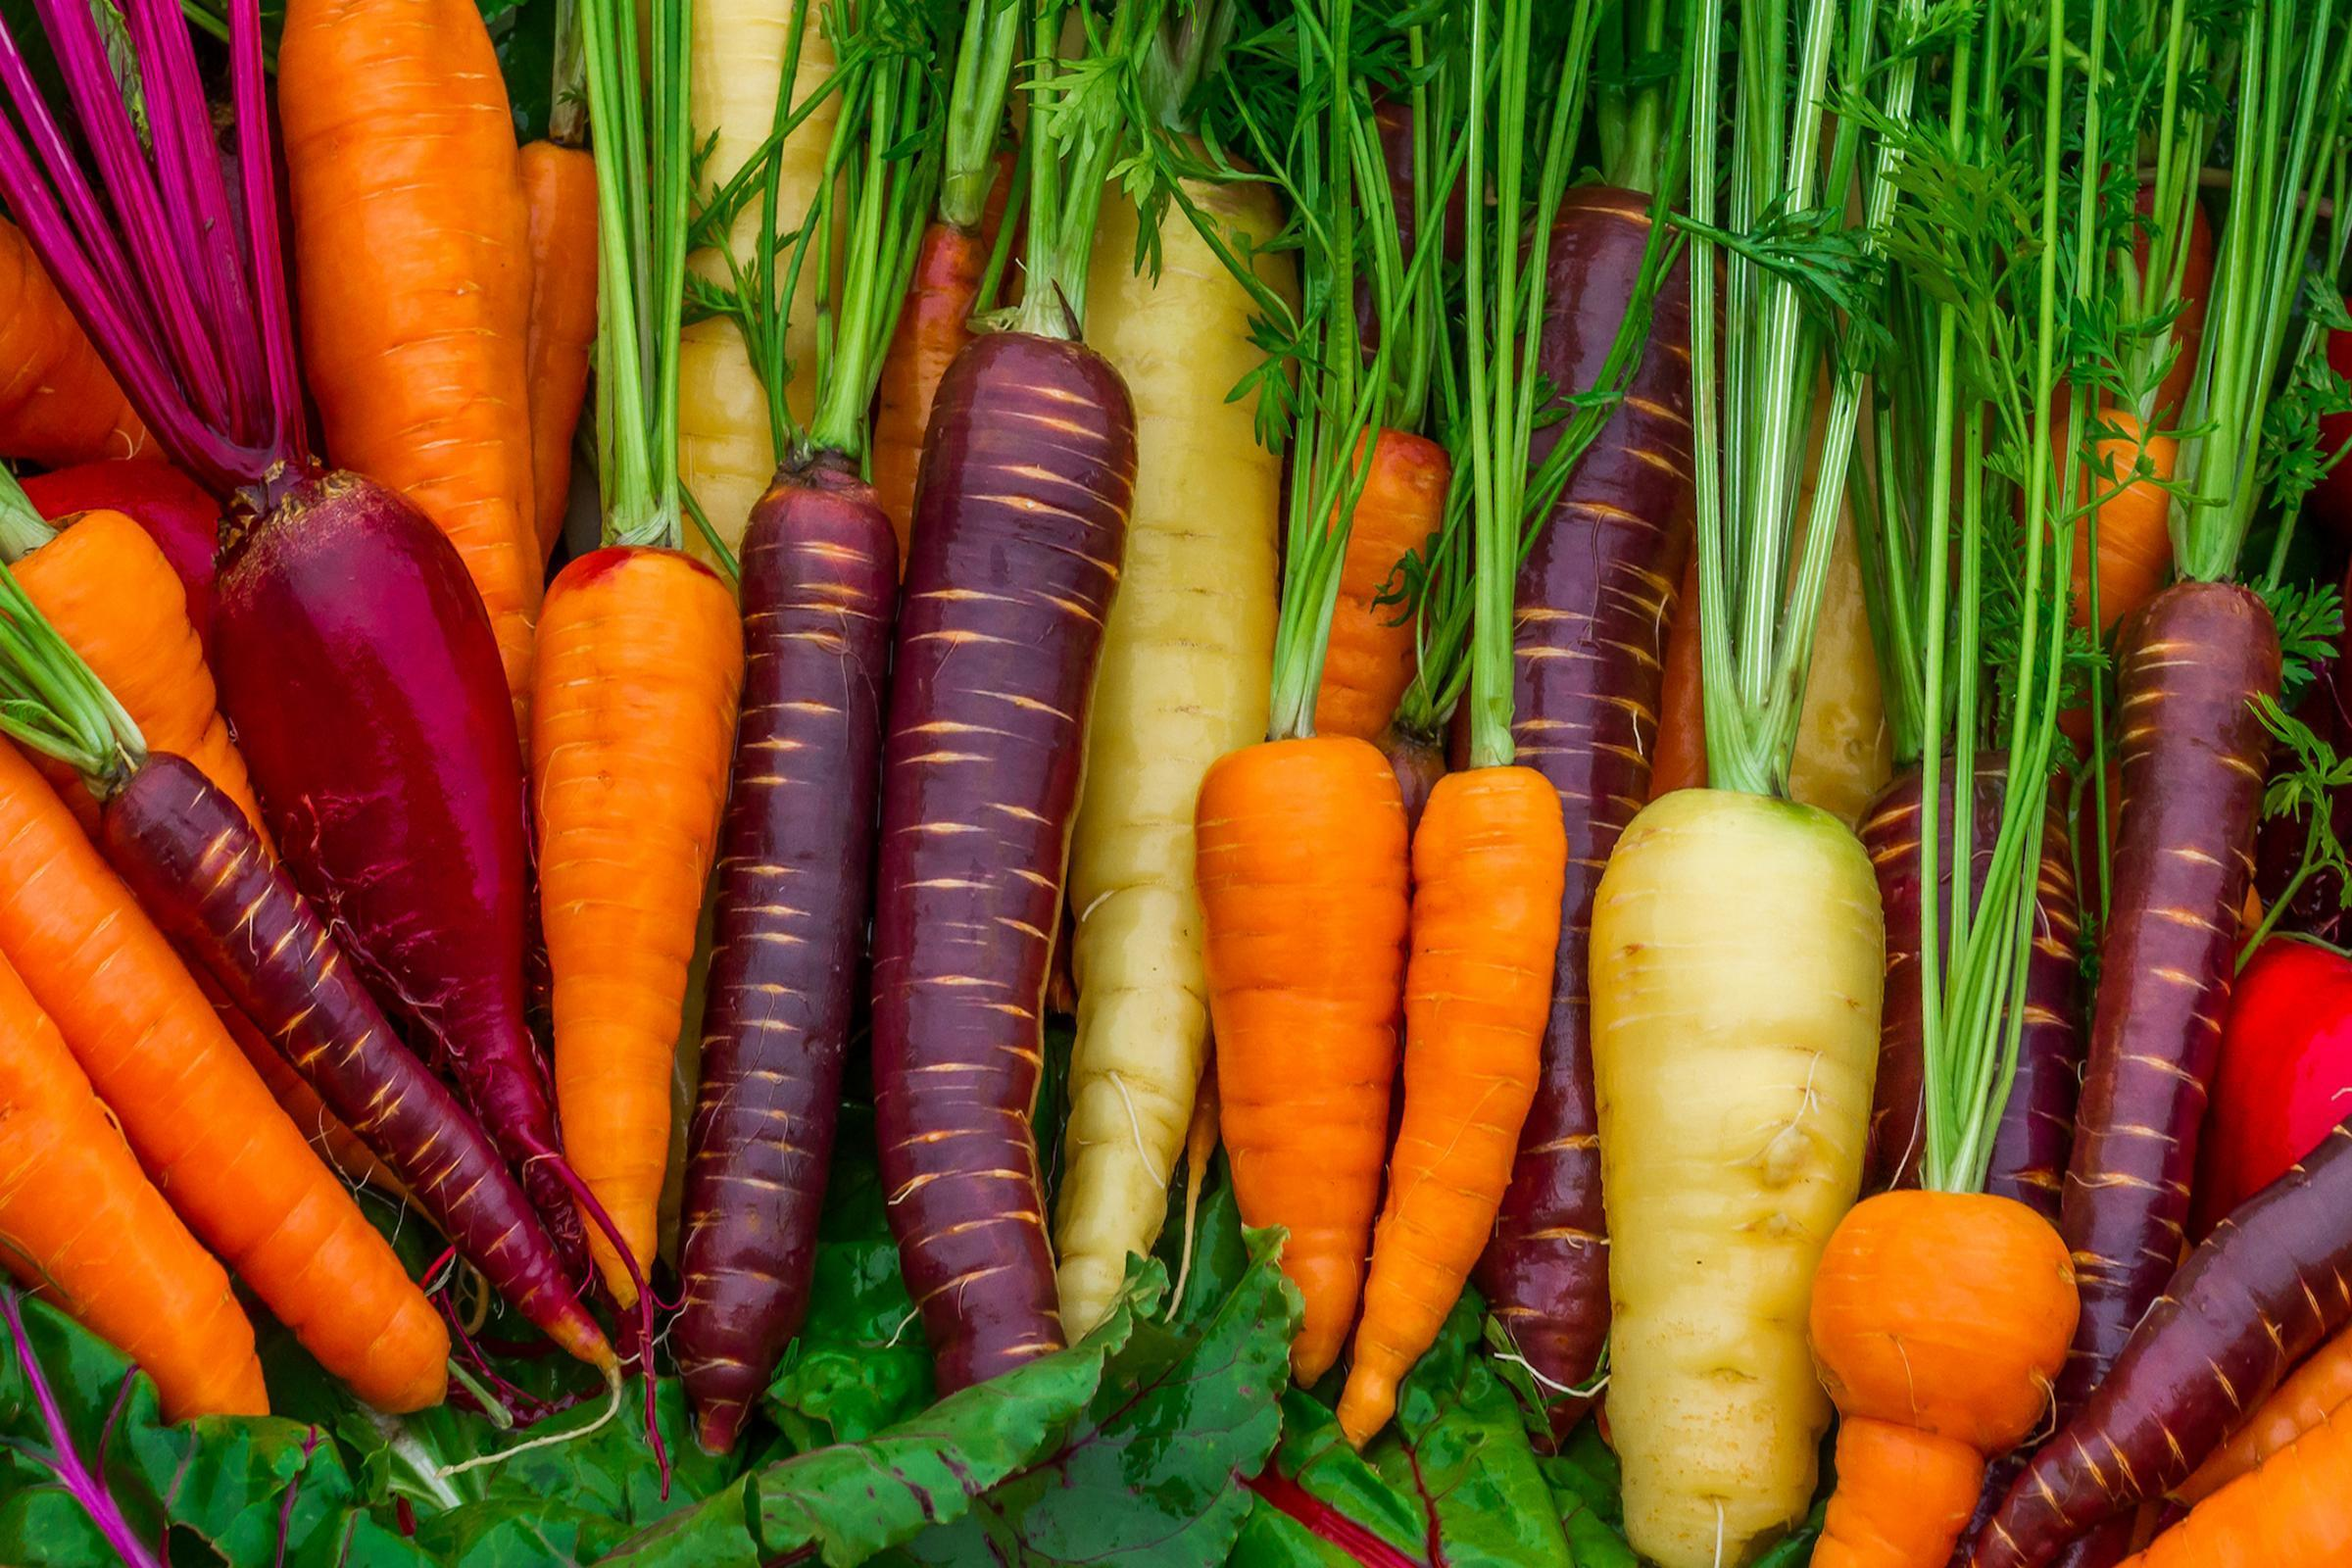carrot: (0, 784, 427, 1507), (1202, 754, 1545, 1386), (276, 0, 574, 478), (516, 507, 709, 1244), (1830, 1206, 2042, 1568)
